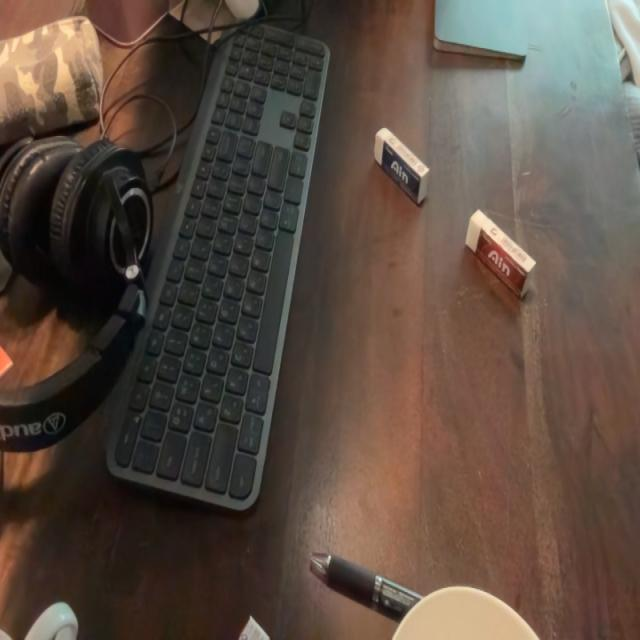blue: (367, 118, 437, 215)
red: (462, 201, 541, 310)
